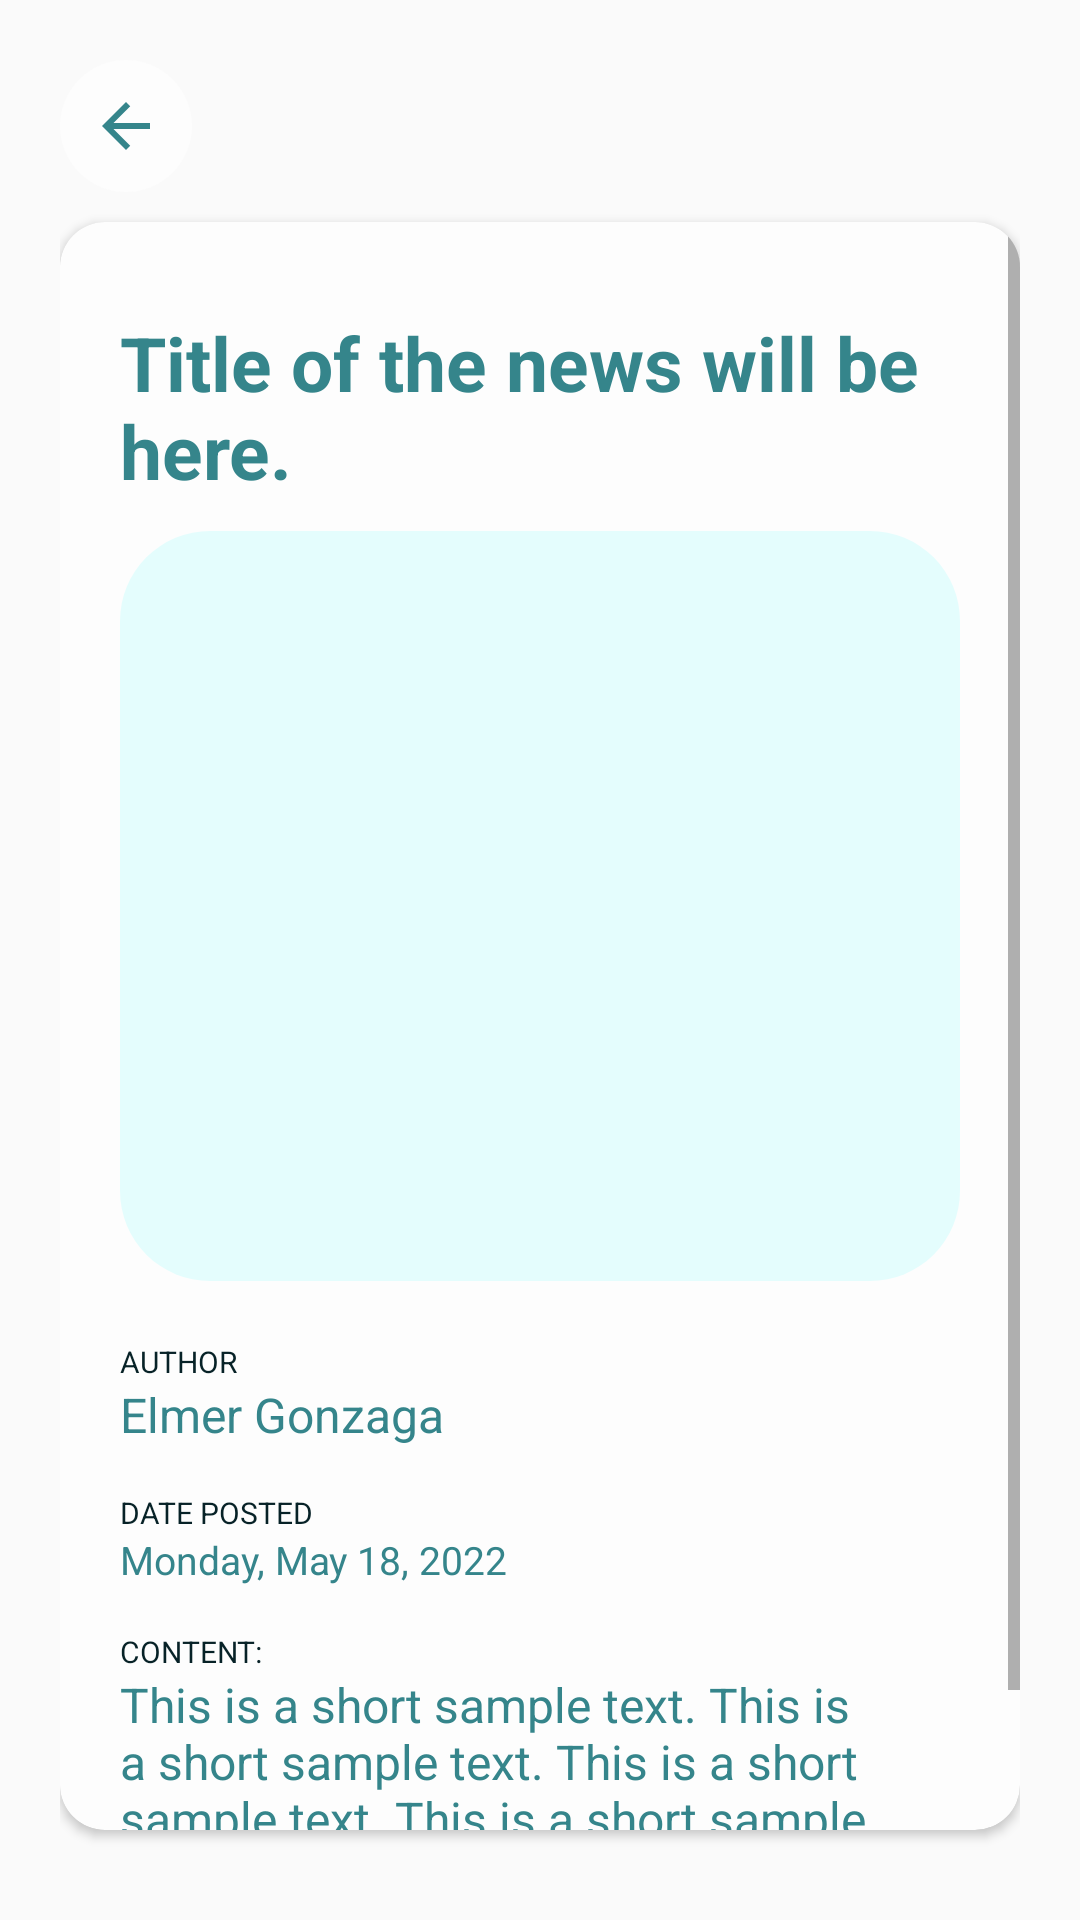

Named icons in this screenshot (1080*1920) and their bounding boxes, (x1, y1, x2, y2):
back arrow: (102, 102, 150, 150)
